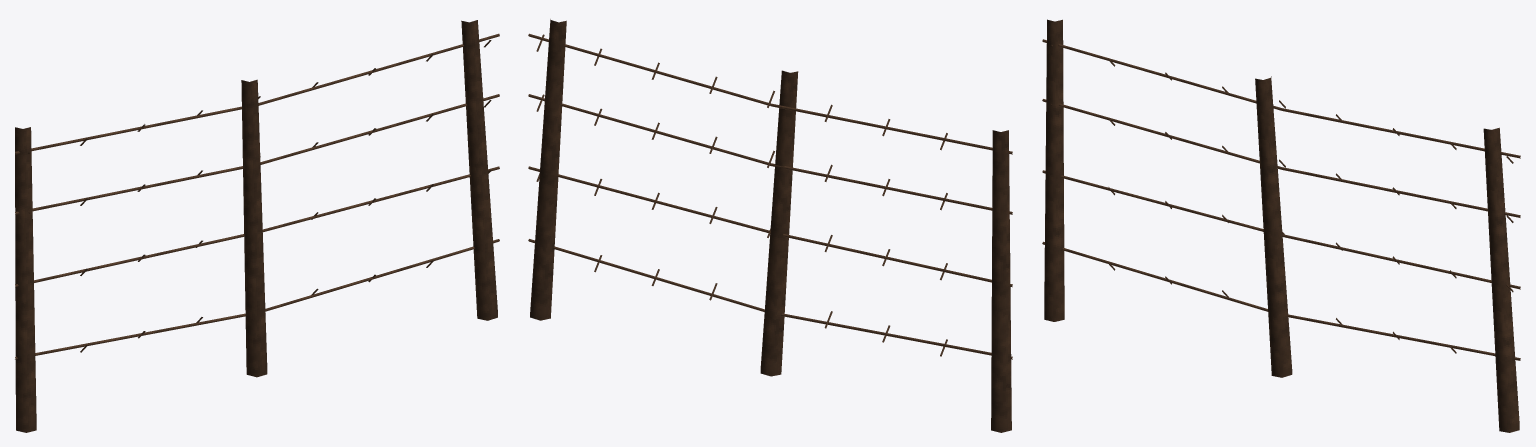
File: wire_fence.glb
The picture shows the model from 3 angles, left to right: view 1: azimuth 30°, elevation 25°; view 2: azimuth 150°, elevation 25°; view 3: azimuth 330°, elevation 25°; orthographic projection.
Visible parts, largest first — view 1: wire_fence; view 2: wire_fence; view 3: wire_fence.
Part boxes in pixels (left/top/right/bottom): wire_fence: left=15, top=20, right=499, bottom=432; wire_fence: left=528, top=19, right=1012, bottom=432; wire_fence: left=1042, top=19, right=1520, bottom=432.
Size of the model in its own units: 2.1 by 1.26 by 0.1198.
Materials: 1 (1 with a texture image).
